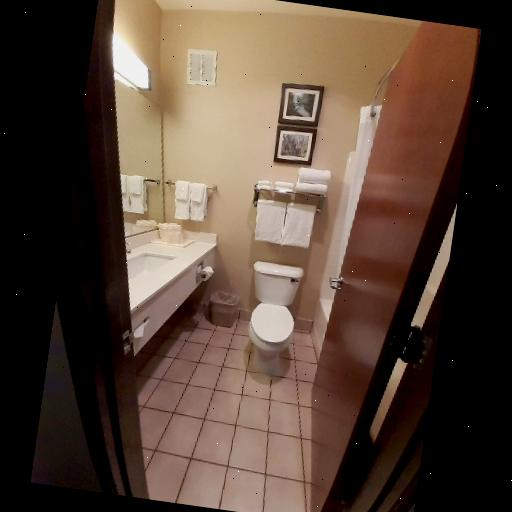clean_floor: (133, 308, 315, 512)
clean_sink: (120, 218, 220, 358)
clean_toilet: (228, 250, 314, 378)
folded_towel: (254, 198, 315, 246), (170, 178, 212, 226), (295, 164, 336, 198), (274, 180, 293, 195), (255, 180, 271, 190)
